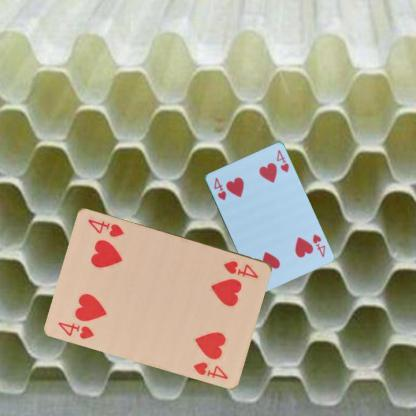4h: (221, 258, 260, 280), (56, 319, 96, 340), (211, 174, 227, 202), (310, 232, 326, 258)
